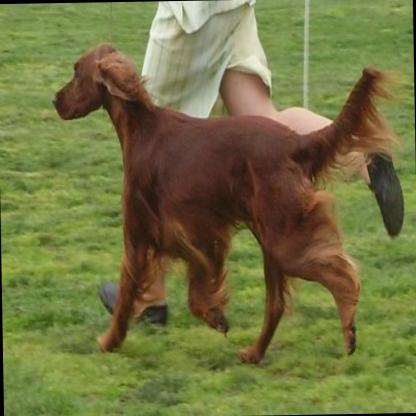Irish_setter: (50, 36, 398, 373)
